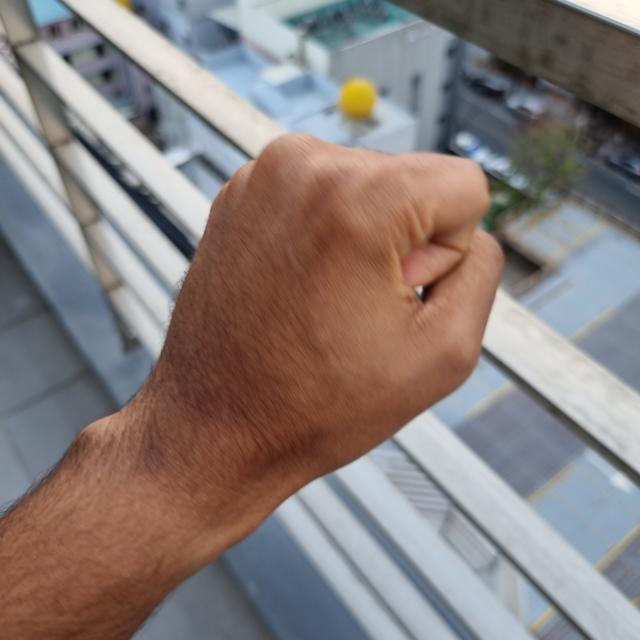Rock: (142, 133, 501, 490)
